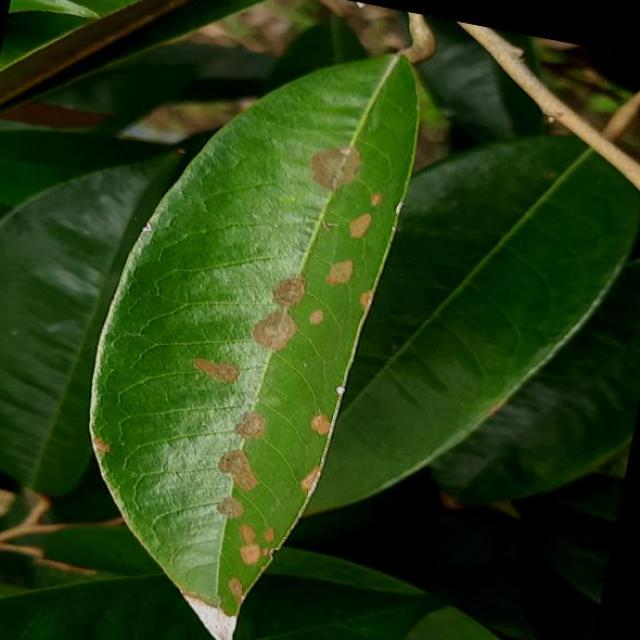Algal Leaf Spot: (34, 1, 437, 640)
